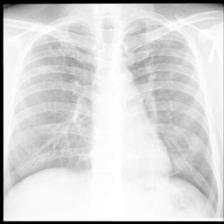tuberculosis: (4, 4, 224, 220)
